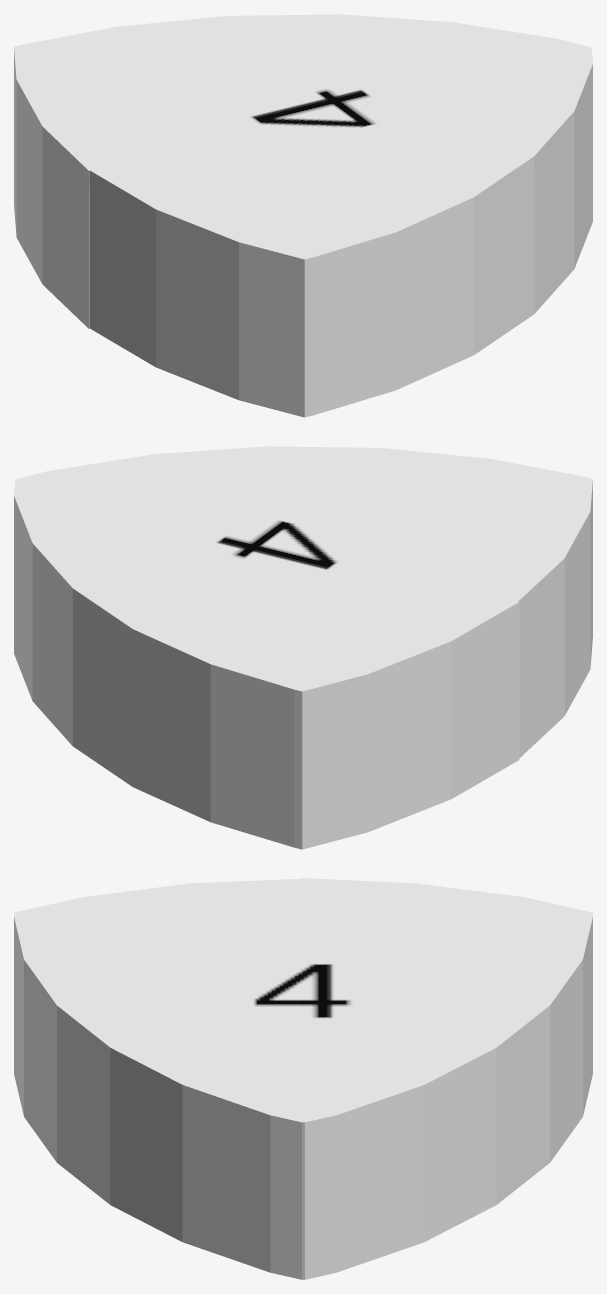
Rendered from button4white.fbx.
3 views of the same model, one above another, from view 1: azimuth 30°, elevation 25°; view 2: azimuth 150°, elevation 25°; view 3: azimuth 270°, elevation 25° (orthographic).
Parts seen in each view (by area): view 1: Button10; view 2: Button10; view 3: Button10.
Part boxes in pixels (bbox=[...]): Button10: bbox=[14, 14, 592, 417]; Button10: bbox=[14, 446, 592, 849]; Button10: bbox=[14, 878, 592, 1279].
Size of the model in its own units: 200 by 60 by 200.
1 material, 1 textured.
